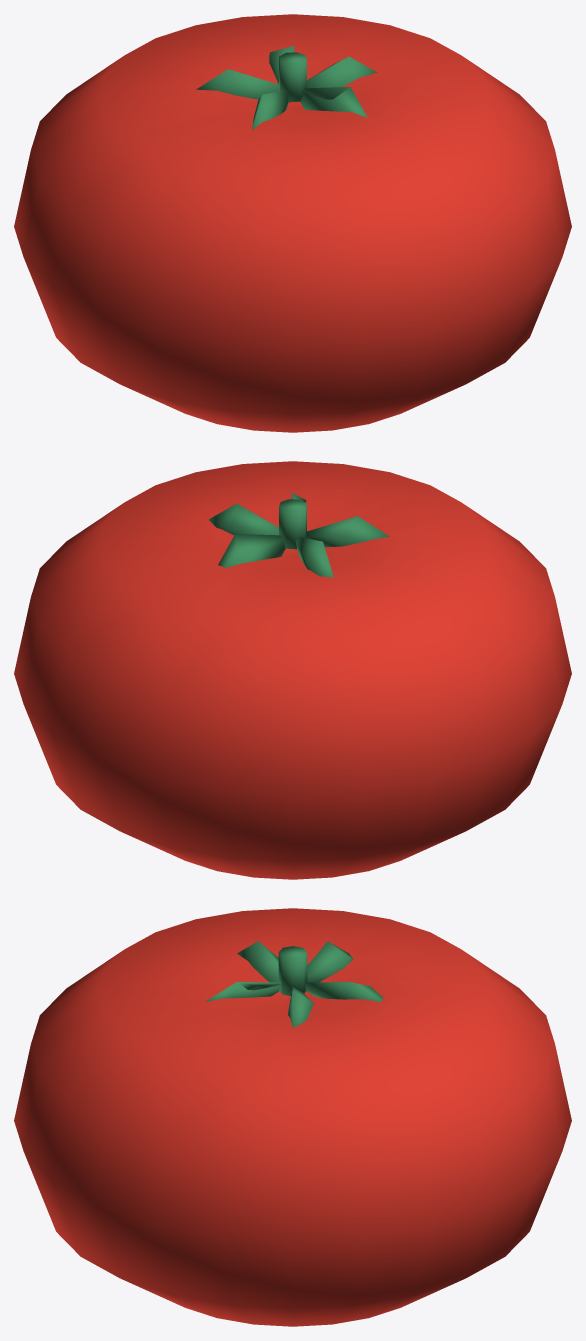
File: tomato.glb
3 renders of one model, top to bottom at view 1: azimuth 30°, elevation 25°; view 2: azimuth 150°, elevation 25°; view 3: azimuth 270°, elevation 25°, orthographic.
Visible parts, largest first — view 1: fruit, calyx.002, calyx.004, calyx, stem, calyx.003; view 2: fruit, calyx.001, calyx.003, calyx, stem, calyx.002; view 3: fruit, stem, calyx.001, calyx.002, calyx.003, calyx.004, calyx.
Boxes of the visible parts, x1=… form: fruit: x1=14, y1=14, x2=571, y2=432; calyx.002: x1=196, y1=69, x2=279, y2=99; calyx.004: x1=300, y1=87, x2=367, y2=117; calyx: x1=307, y1=56, x2=376, y2=88; stem: x1=279, y1=52, x2=306, y2=102; calyx.003: x1=252, y1=90, x2=288, y2=130; fruit: x1=14, y1=461, x2=571, y2=879; calyx.001: x1=218, y1=534, x2=285, y2=567; calyx.003: x1=306, y1=516, x2=389, y2=547; calyx: x1=208, y1=503, x2=278, y2=535; stem: x1=279, y1=499, x2=306, y2=549; calyx.002: x1=295, y1=537, x2=333, y2=577; fruit: x1=14, y1=908, x2=571, y2=1326; stem: x1=278, y1=946, x2=307, y2=995; calyx.001: x1=304, y1=982, x2=382, y2=1002; calyx.002: x1=307, y1=941, x2=353, y2=982; calyx.003: x1=237, y1=941, x2=278, y2=982; calyx.004: x1=205, y1=982, x2=281, y2=1001; calyx: x1=288, y1=985, x2=313, y2=1028.
Bounding box in the file's own units: 0.66 × 0.43 × 0.66.
